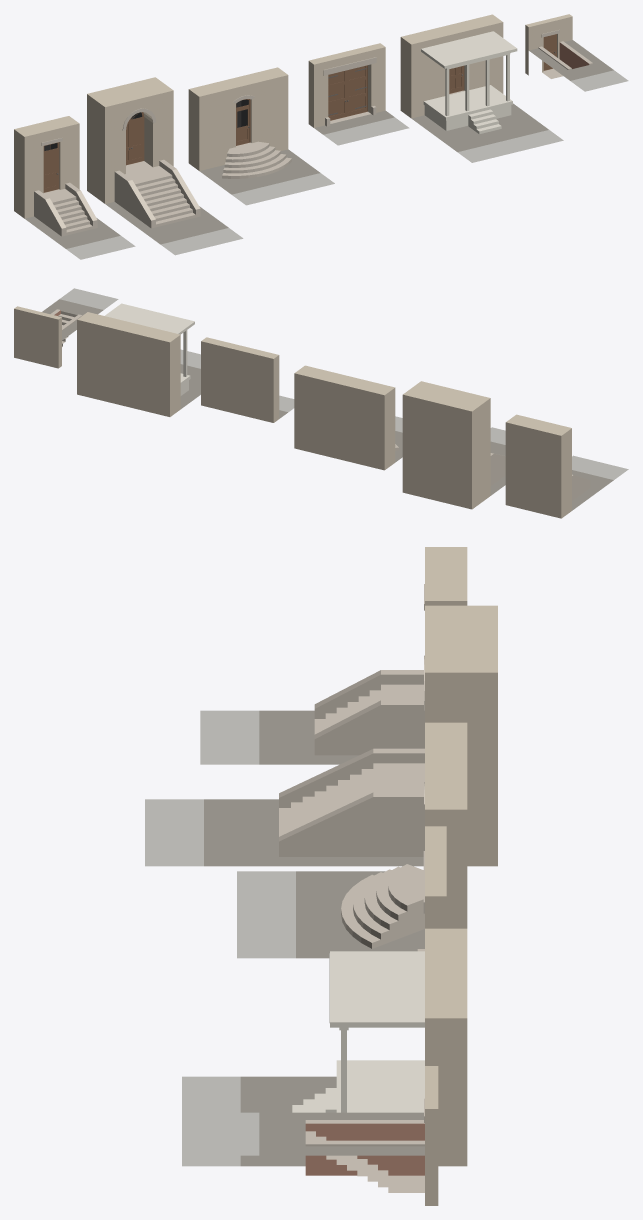
File: k07_entrance_kit.glb
The picture shows the model from 3 angles, top to bottom: view 1: azimuth 30°, elevation 25°; view 2: azimuth 150°, elevation 25°; view 3: azimuth 270°, elevation 25°; orthographic projection. The views are drawn at different scales.
Visible parts, largest first — view 1: k07.entrance.double_door_deep_arch, k07.entrance.porch, k07.entrance.glazed_door_bowed_stoop, k07.entrance.panel_door_stoop, k07.entrance.carriage_doors, k07.entrance.basement_area_stair; view 2: k07.entrance.porch, k07.entrance.double_door_deep_arch, k07.entrance.glazed_door_bowed_stoop, k07.entrance.panel_door_stoop, k07.entrance.carriage_doors, k07.entrance.basement_area_stair; view 3: k07.entrance.double_door_deep_arch, k07.entrance.porch, k07.entrance.glazed_door_bowed_stoop, k07.entrance.panel_door_stoop, k07.entrance.basement_area_stair, k07.entrance.carriage_doors.
Part boxes in pixels (<box>): k07.entrance.double_door_deep_arch: <box>87,77,243,255</box>; k07.entrance.porch: <box>400,14,563,162</box>; k07.entrance.glazed_door_bowed_stoop: <box>188,67,334,205</box>; k07.entrance.panel_door_stoop: <box>14,116,135,259</box>; k07.entrance.carriage_doors: <box>308,43,409,145</box>; k07.entrance.basement_area_stair: <box>525,14,628,91</box>; k07.entrance.porch: <box>77,303,200,416</box>; k07.entrance.double_door_deep_arch: <box>402,381,505,509</box>; k07.entrance.glazed_door_bowed_stoop: <box>294,365,402,470</box>; k07.entrance.panel_door_stoop: <box>505,414,628,518</box>; k07.entrance.carriage_doors: <box>201,337,294,422</box>; k07.entrance.basement_area_stair: <box>14,288,118,368</box>; k07.entrance.double_door_deep_arch: <box>145,605,497,866</box>; k07.entrance.porch: <box>182,928,467,1166</box>; k07.entrance.glazed_door_bowed_stoop: <box>237,722,467,958</box>; k07.entrance.panel_door_stoop: <box>200,547,467,764</box>; k07.entrance.basement_area_stair: <box>200,1066,438,1205</box>; k07.entrance.carriage_doors: <box>329,826,446,1023</box>.
Bounding box in the file's own units: 34.36 × 5.8 × 9.58.
